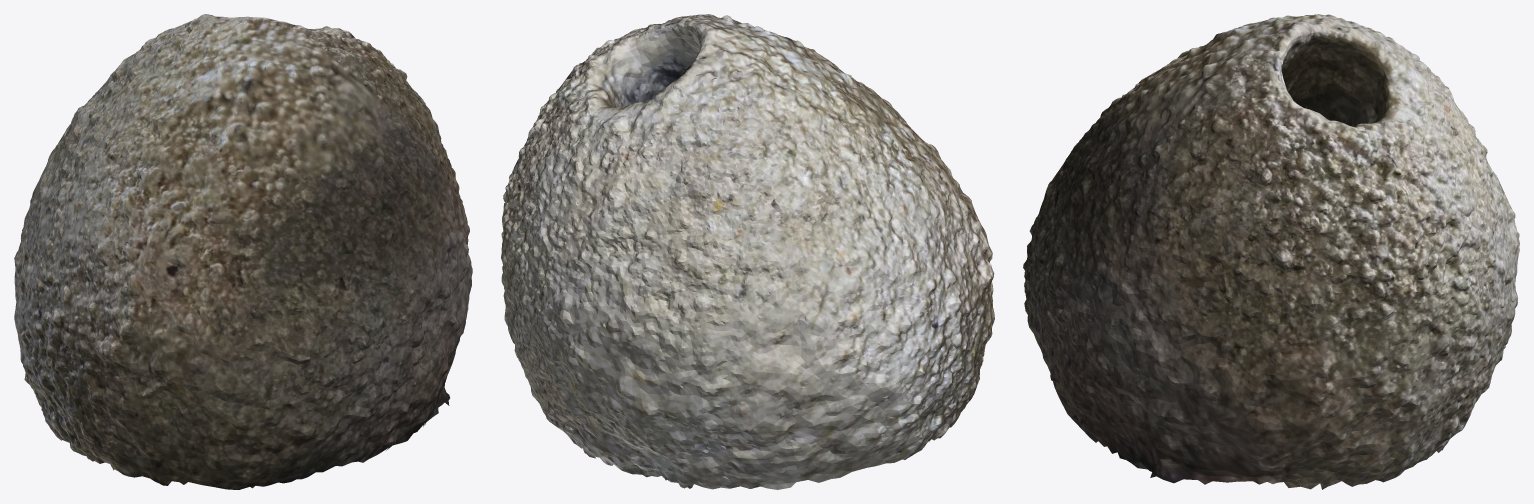
File: PEDRA.glb
3 views of the same model, side by side, from view 1: azimuth 30°, elevation 25°; view 2: azimuth 150°, elevation 25°; view 3: azimuth 270°, elevation 25° (orthographic). The views are drawn at different scales.
Parts seen in each view (by area): view 1: Mesh_0.001; view 2: Mesh_0.001; view 3: Mesh_0.001.
Boxes of the visible parts, x1=… form: Mesh_0.001: x1=14, y1=14, x2=472, y2=489; Mesh_0.001: x1=501, y1=14, x2=994, y2=489; Mesh_0.001: x1=1023, y1=14, x2=1519, y2=489.
Bounding box in the file's own units: 0.1124 × 0.1 × 0.112.
Materials: 1 (1 with a texture image).
